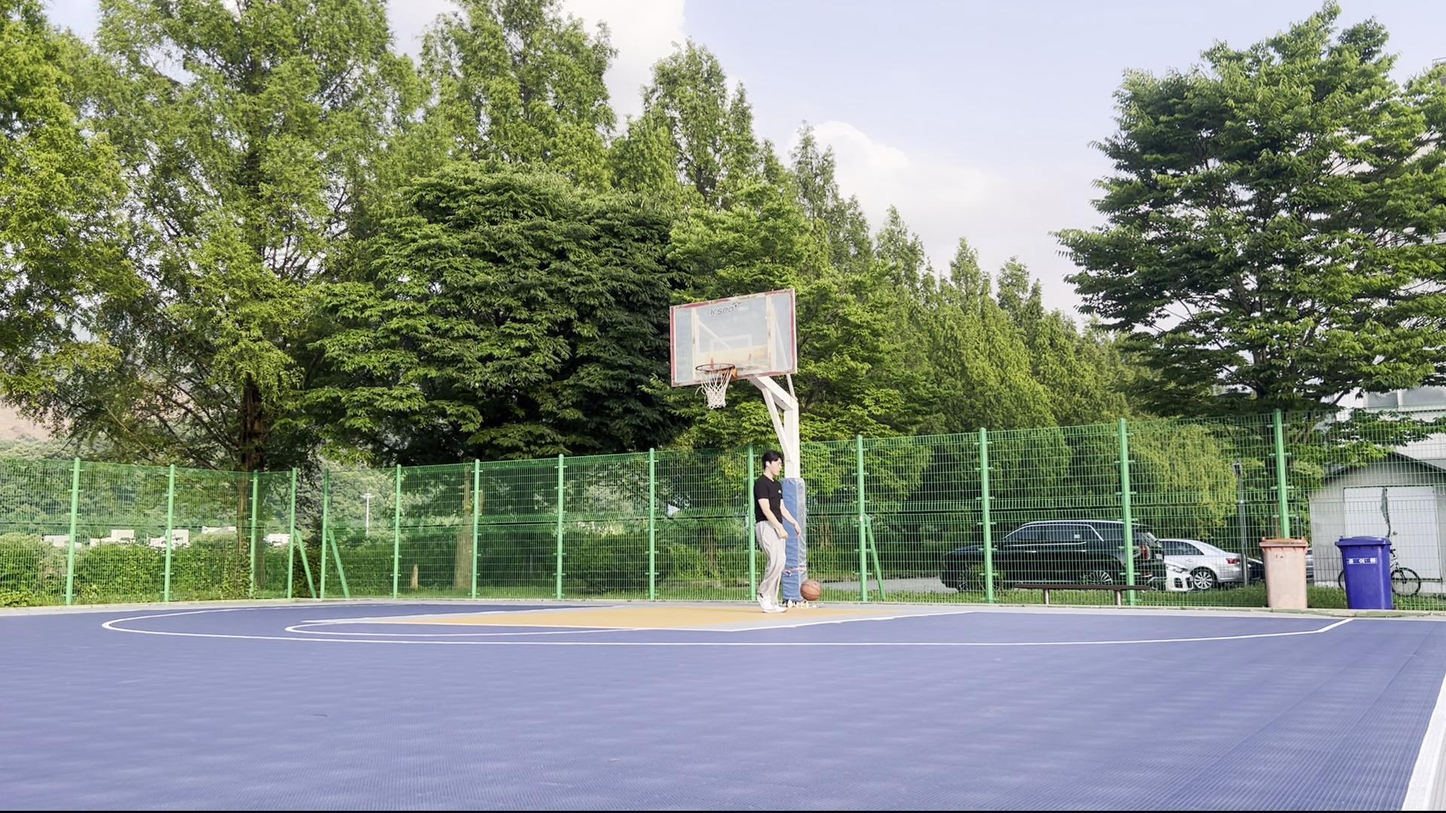ball: (799, 577, 822, 601)
human: (752, 449, 802, 614)
rim: (694, 362, 736, 410)
